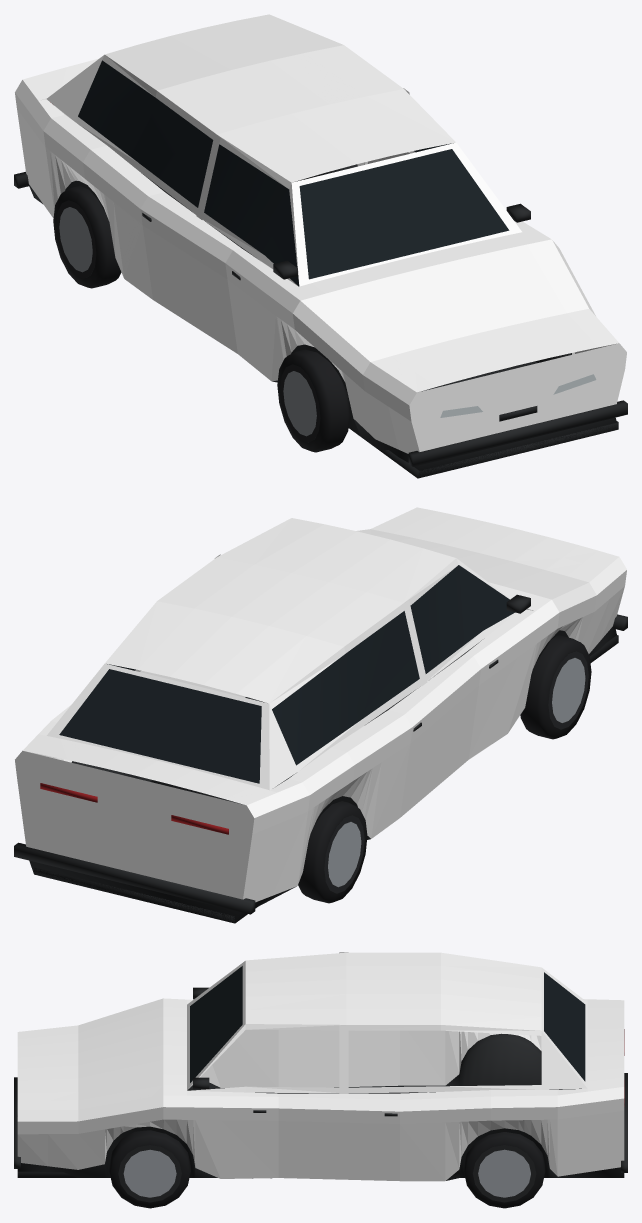
The model's file is hayase_trilha.glb.
3 views of the same model, one above another, from view 1: azimuth 30°, elevation 25°; view 2: azimuth 150°, elevation 25°; view 3: azimuth 270°, elevation 25° (orthographic). The views are drawn at different scales.
Parts seen in each view (by area): view 1: Body_Paint, Body_Details, Mount_FrontLeft_Wheel_Details, Mount_RearLeft_Wheel_Details; view 2: Body_Paint, Body_Details, Mount_FrontLeft_Wheel_Details, Mount_RearLeft_Wheel_Details; view 3: Body_Paint, Body_Details, Mount_FrontRight_Wheel_Details, Mount_RearRight_Wheel_Details.
Boxes of the visible parts, x1=… form: Body_Paint: x1=15, y1=14, x2=626, y2=453; Body_Details: x1=14, y1=60, x2=627, y2=478; Mount_FrontLeft_Wheel_Details: x1=277, y1=349, x2=349, y2=452; Mount_RearLeft_Wheel_Details: x1=53, y1=186, x2=121, y2=288; Body_Paint: x1=15, y1=507, x2=626, y2=902; Body_Details: x1=14, y1=565, x2=627, y2=923; Mount_FrontLeft_Wheel_Details: x1=520, y1=635, x2=591, y2=739; Mount_RearLeft_Wheel_Details: x1=298, y1=801, x2=367, y2=903; Body_Paint: x1=17, y1=952, x2=624, y2=1181; Body_Details: x1=14, y1=966, x2=627, y2=1180; Mount_FrontRight_Wheel_Details: x1=109, y1=1130, x2=190, y2=1208; Mount_RearRight_Wheel_Details: x1=463, y1=1132, x2=545, y2=1208.
Bounding box in the file's own units: 1.95 × 1.49 × 4.82.
2 materials, 1 textured.
